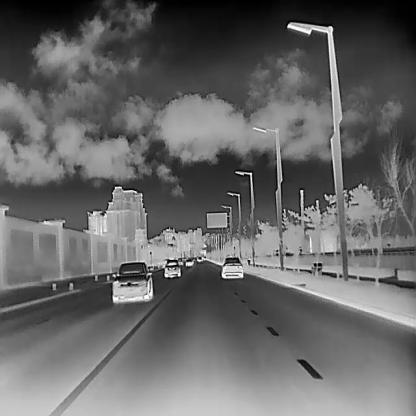car: (111, 261, 152, 301), (220, 256, 243, 278), (164, 258, 180, 277), (185, 257, 193, 265), (176, 256, 183, 265), (196, 255, 202, 261)
